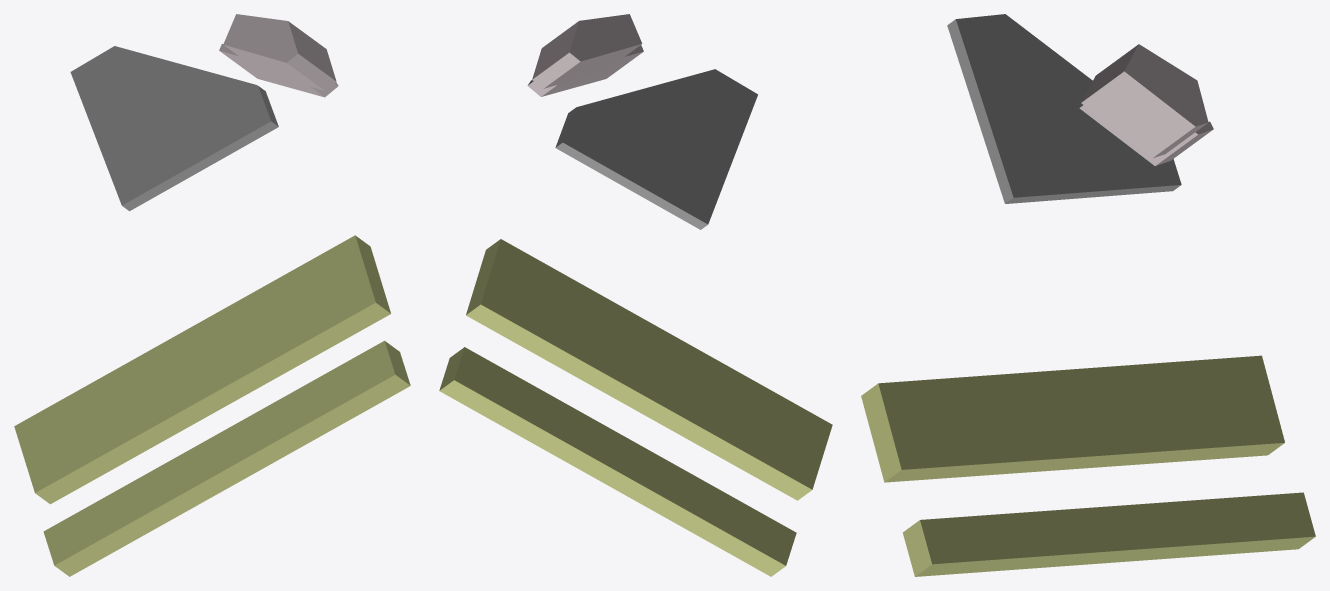
3 renders of one model, left to right at view 1: azimuth 30°, elevation 25°; view 2: azimuth 150°, elevation 25°; view 3: azimuth 330°, elevation 25°, orthographic. The views are drawn at different scales.
Visible parts, largest first — view 1: 0_2_3_2_1_2_0_1; view 2: 0_2_3_2_1_2_0_1; view 3: 0_2_3_2_1_2_0_1.
Boxes of the visible parts, x1=… form: 0_2_3_2_1_2_0_1: x1=14, y1=14, x2=410, y2=576; 0_2_3_2_1_2_0_1: x1=439, y1=14, x2=832, y2=576; 0_2_3_2_1_2_0_1: x1=861, y1=14, x2=1315, y2=576.
Bounding box in the file's own units: 86.73 × 109 × 15.58.
